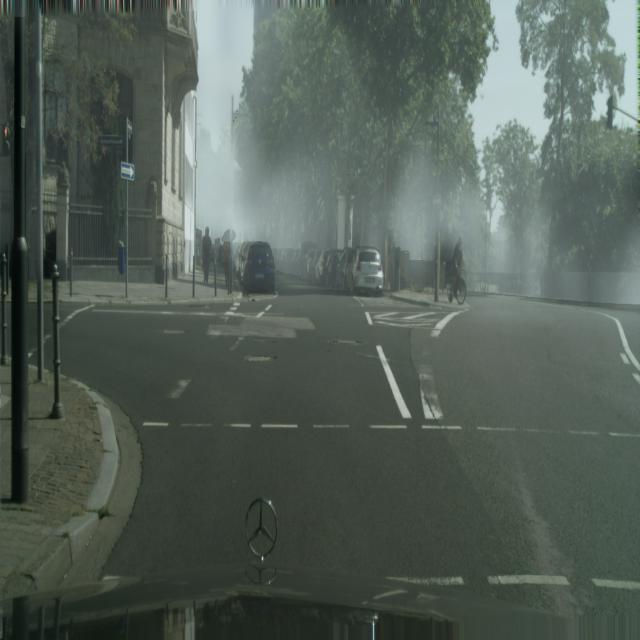car: (447, 232, 466, 304)
person: (202, 226, 212, 285)
truck: (240, 241, 276, 295), (348, 248, 384, 295), (335, 248, 356, 293), (325, 249, 342, 289), (334, 249, 349, 291), (315, 249, 332, 286), (305, 249, 322, 283), (303, 249, 318, 281), (284, 248, 300, 274)
